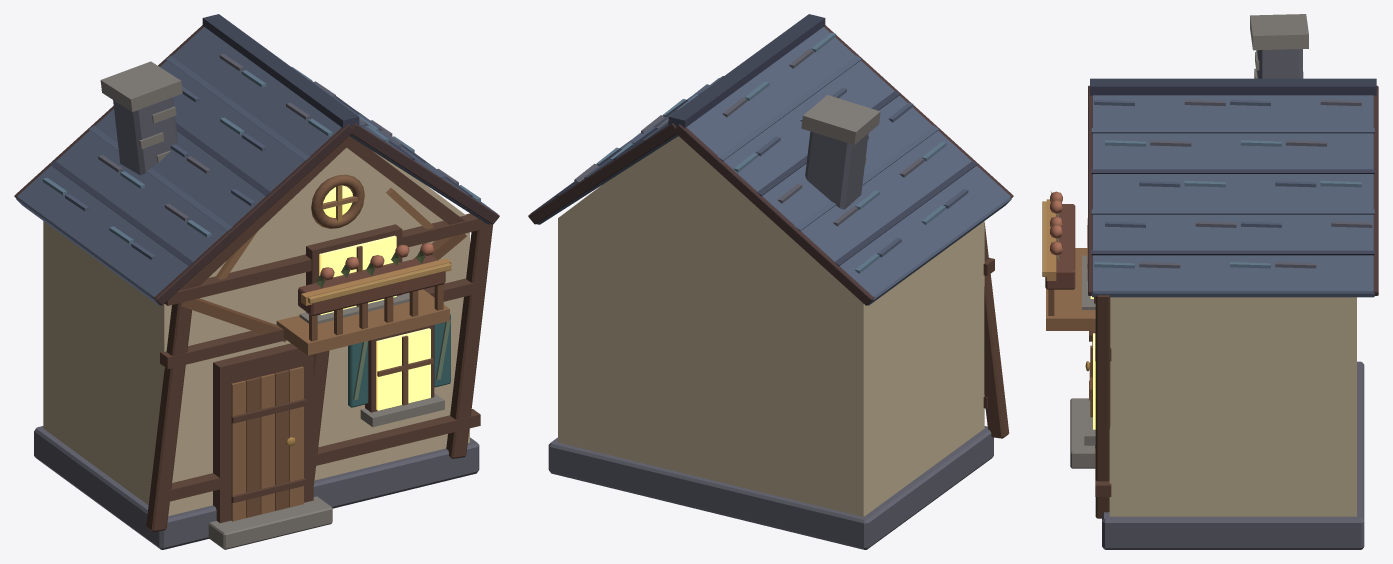
The model's file is village_house_2.glb.
3 renders of one model, left to right at view 1: azimuth 30°, elevation 25°; view 2: azimuth 150°, elevation 25°; view 3: azimuth 270°, elevation 25°, orthographic. The views are drawn at different scales.
Visible parts, largest first — view 1: village_house_2; view 2: village_house_2; view 3: village_house_2.
Boxes of the visible parts, <box> form: village_house_2: <box>14,14,499,549</box>; village_house_2: <box>528,14,1013,549</box>; village_house_2: <box>1042,14,1378,549</box>.
Size of the model in its own units: 2.2 by 2.4 by 1.82.
